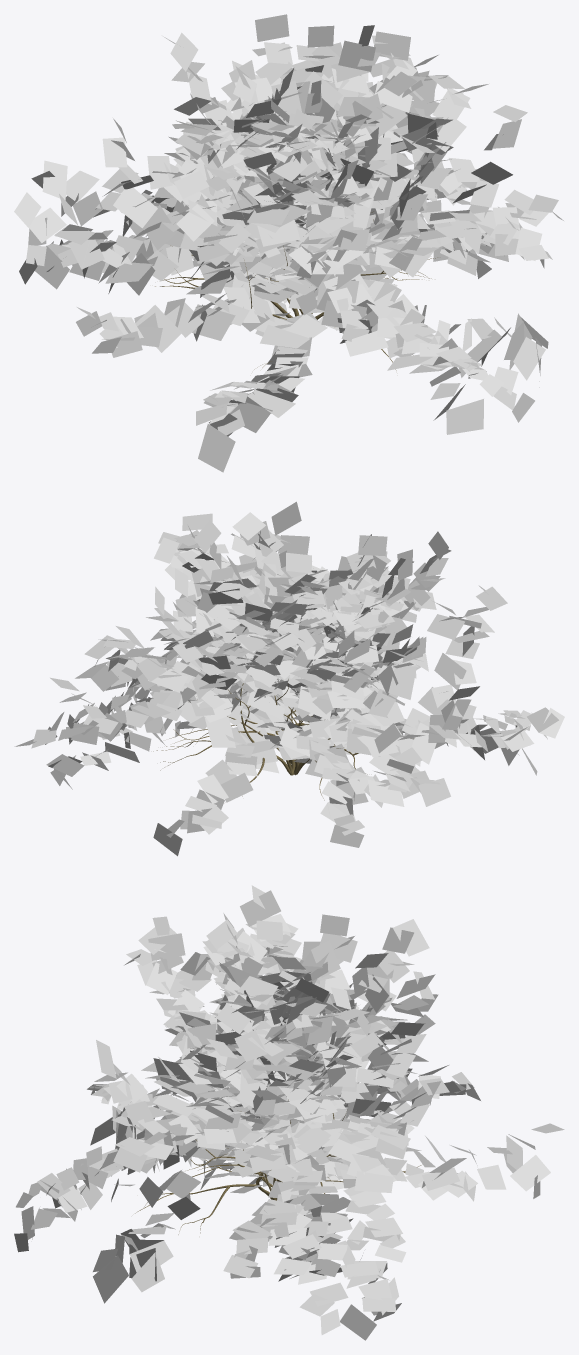
File: Bush09112.fbx
The picture shows the model from 3 angles, top to bottom: view 1: azimuth 30°, elevation 25°; view 2: azimuth 150°, elevation 25°; view 3: azimuth 270°, elevation 25°; orthographic projection. The views are drawn at different scales.
Visible parts, largest first — view 1: leaves.005, tree.004; view 2: leaves.005, tree.004; view 3: leaves.005, tree.004.
Boxes of the visible parts, x1,y1,x2,y2 form: leaves.005: [14, 14, 563, 472]; tree.004: [155, 211, 437, 370]; leaves.005: [14, 501, 564, 856]; tree.004: [153, 679, 367, 800]; leaves.005: [14, 885, 564, 1340]; tree.004: [135, 1099, 421, 1243].
Bounding box in the file's own units: 288 × 166 × 277.
